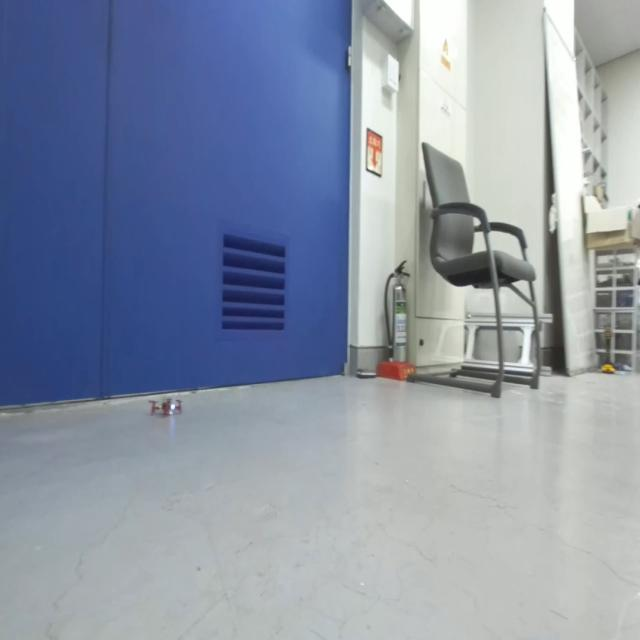crazyflie: (149, 393, 185, 421)
